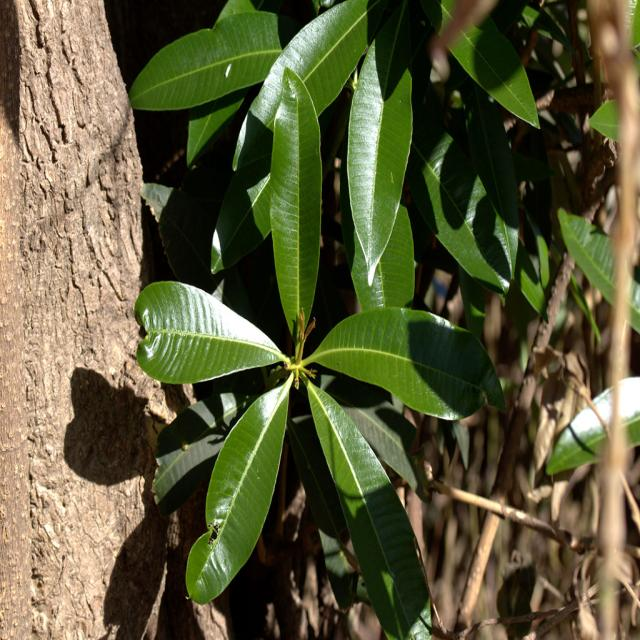Indian Pulai: (163, 0, 546, 432), (180, 236, 472, 566)
